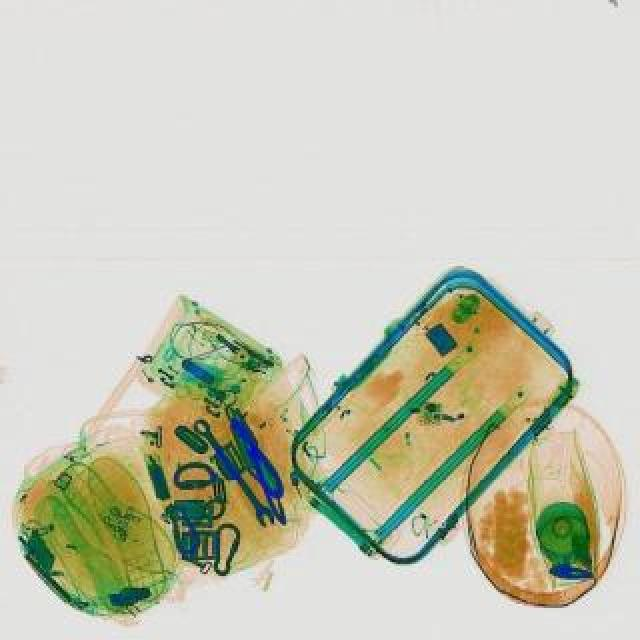scissors: (188, 414, 280, 530)
